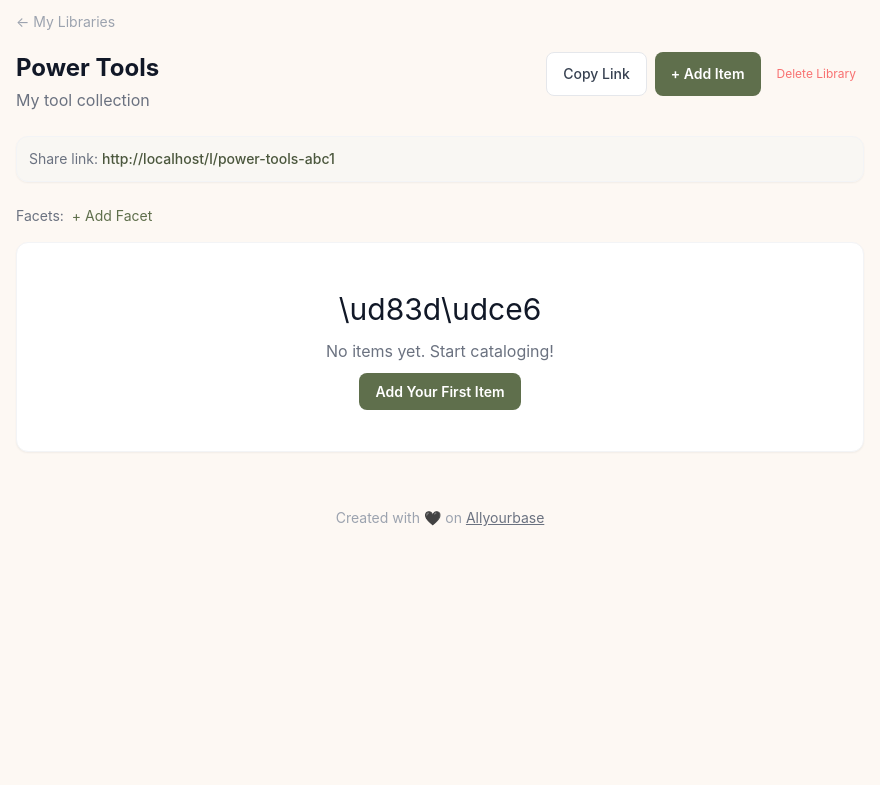
Test: LibraryDetail › shows Add Facet form when clicked
expect the heading "Power Tools" is shown: met, box top-left (16, 52), bottom-right (159, 84)
Click the button "+ Add Facet".
click(112, 216)  # box top-left (72, 206), bottom-right (152, 226)
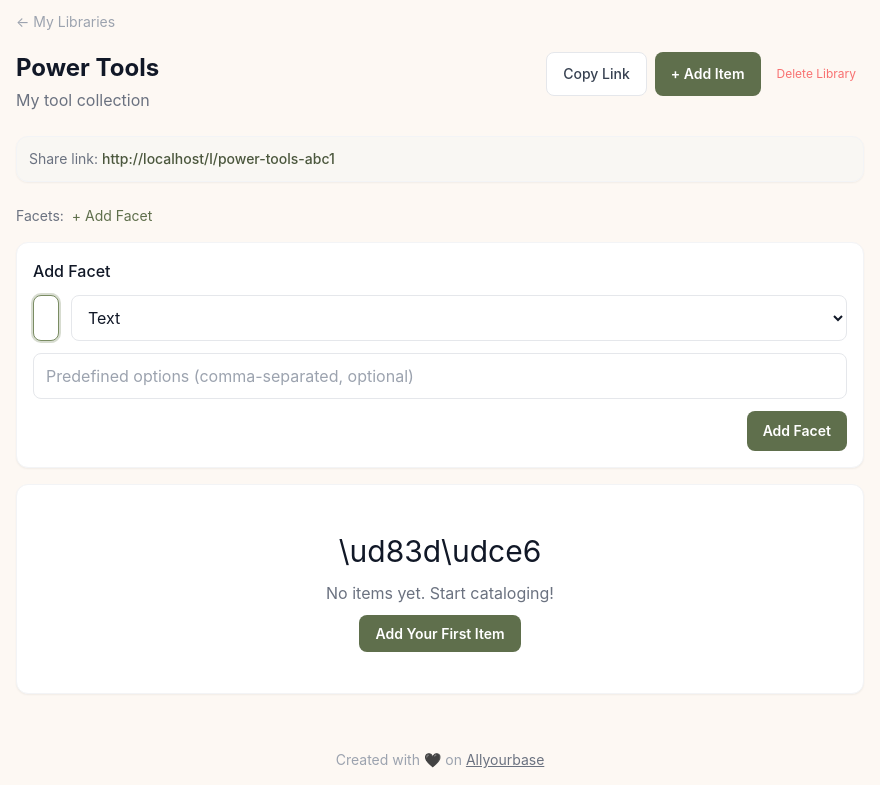
expect the field with placeholder "e.g. Battery Size, Genre, Color" is shown: met, box top-left (33, 295), bottom-right (59, 341)
